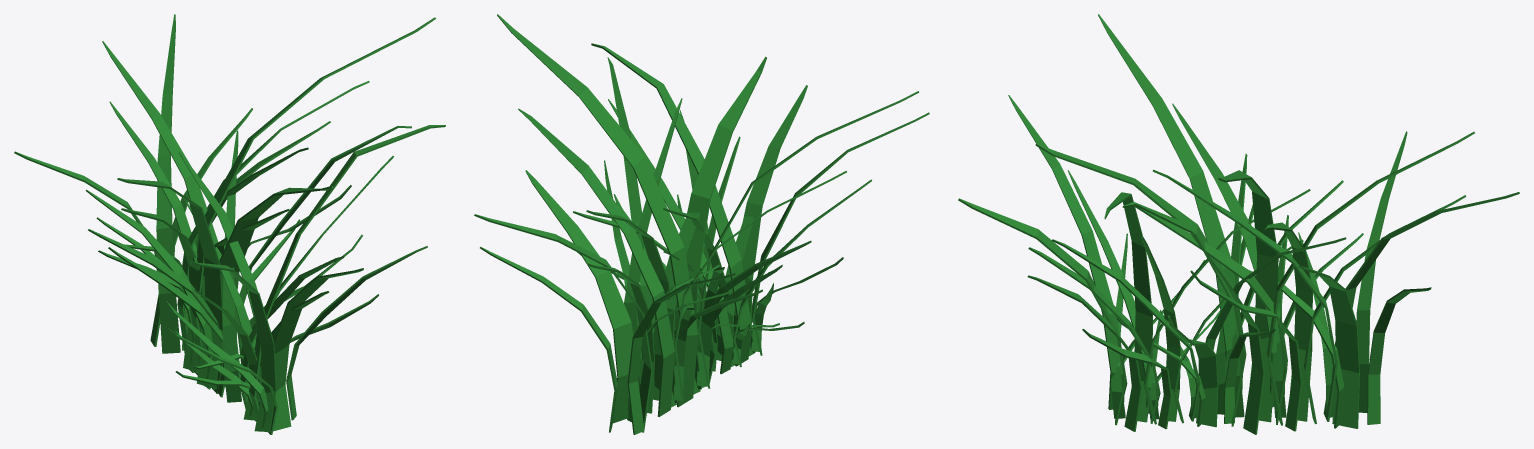
File: grass.fbx
3 views of the same model, side by side, from view 1: azimuth 30°, elevation 25°; view 2: azimuth 150°, elevation 25°; view 3: azimuth 270°, elevation 25° (orthographic). The views are drawn at different scales.
Visible parts, largest first — view 1: Plane; view 2: Plane; view 3: Plane.
Boxes of the visible parts, <box> form: Plane: <box>14,14,445,434</box>; Plane: <box>474,14,929,434</box>; Plane: <box>958,14,1519,434</box>.
Bounding box in the file's own units: 227 × 192 × 277.
